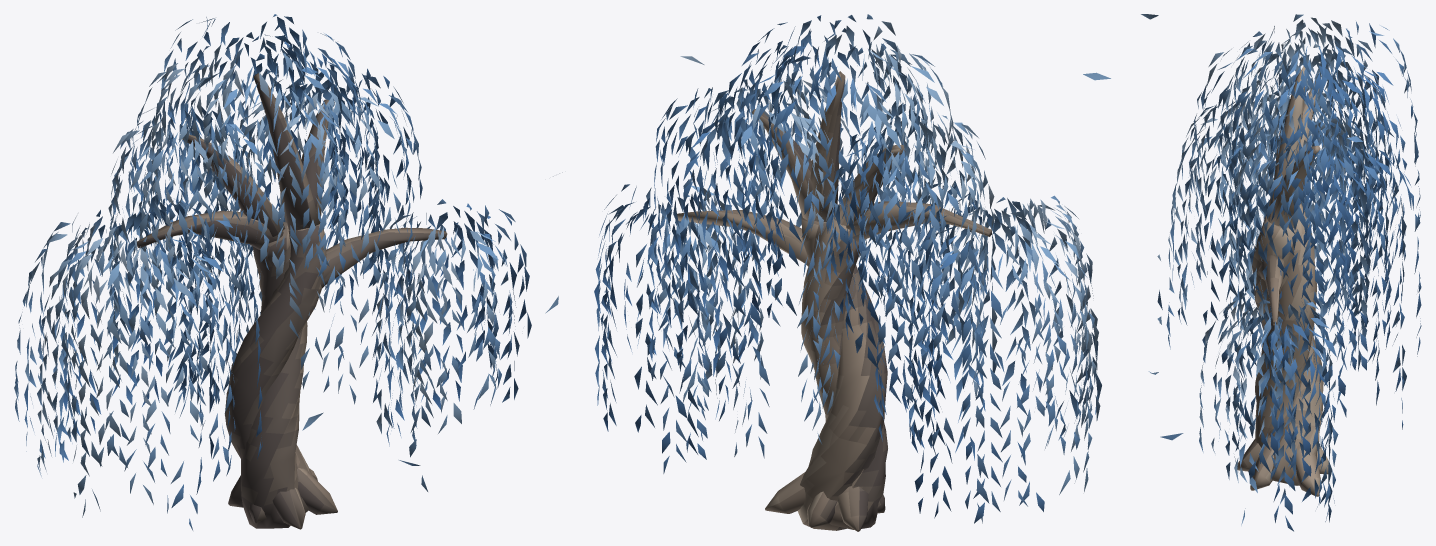
File: willow.glb
The picture shows the model from 3 angles, left to right: view 1: azimuth 30°, elevation 25°; view 2: azimuth 150°, elevation 25°; view 3: azimuth 270°, elevation 25°; orthographic projection. The views are drawn at different scales.
Visible parts, largest first — view 1: willow; view 2: willow; view 3: willow.
Part boxes in pixels (left/top/right/bottom): willow: left=14, top=14, right=562, bottom=530; willow: left=594, top=14, right=1110, bottom=531; willow: left=1141, top=14, right=1421, bottom=531.
Size of the model in its own units: 7.36 by 7.01 by 3.99.
